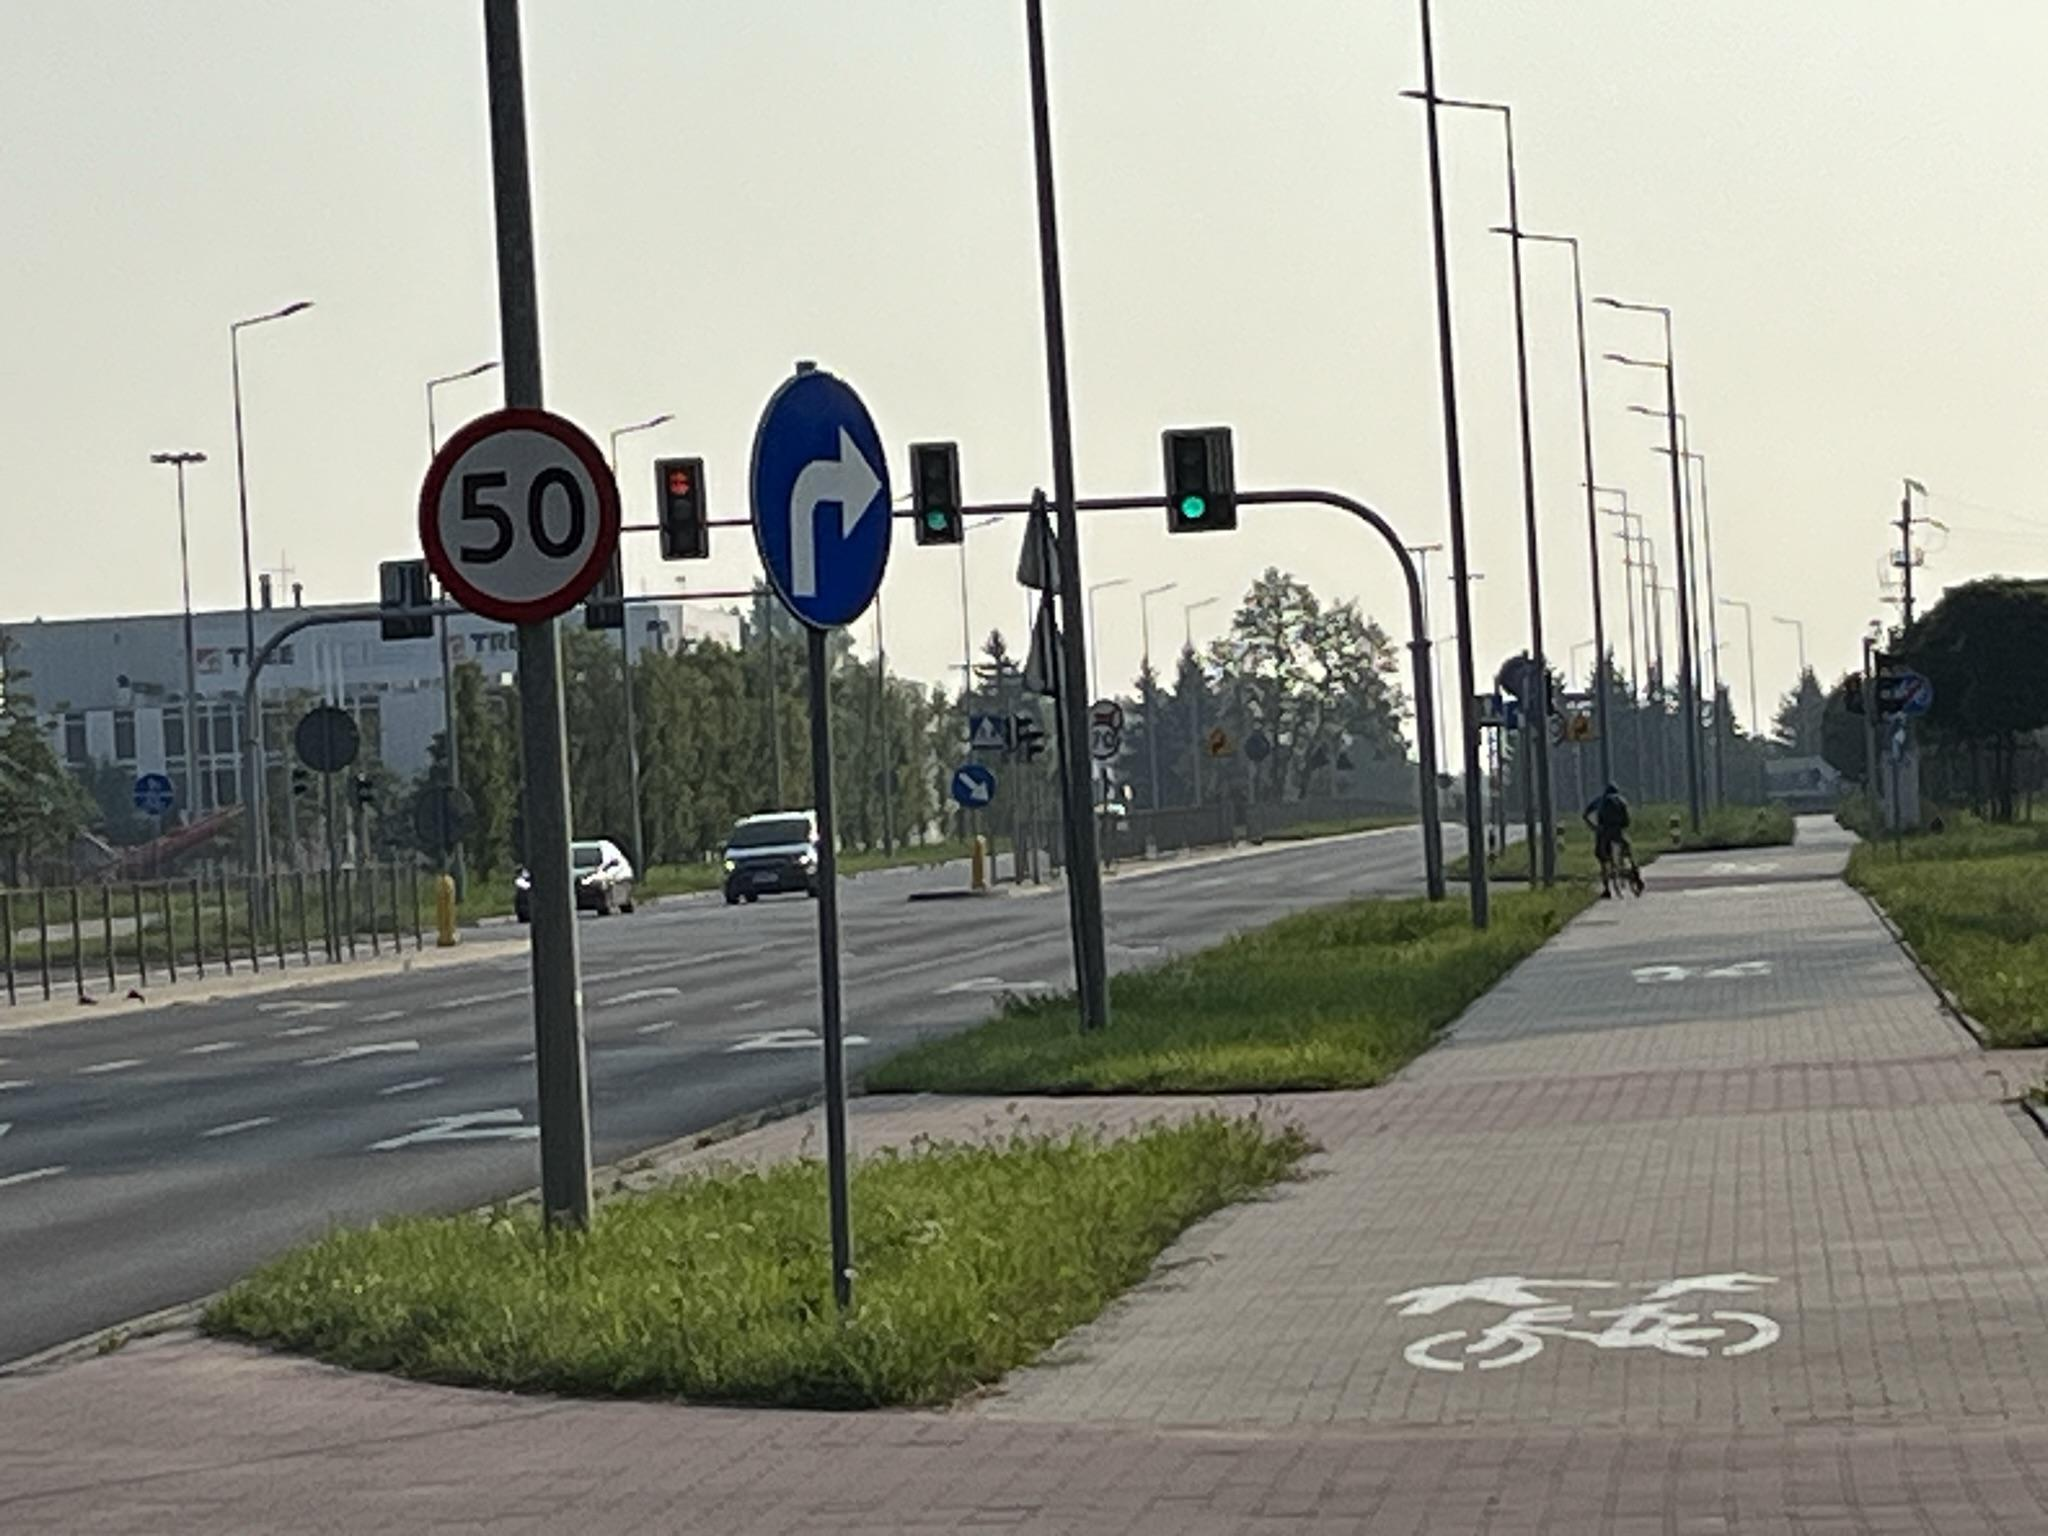mandatory: (748, 368, 895, 632), (951, 763, 997, 810), (134, 773, 174, 816)
prohibitory: (418, 408, 624, 624), (1089, 720, 1121, 760)
